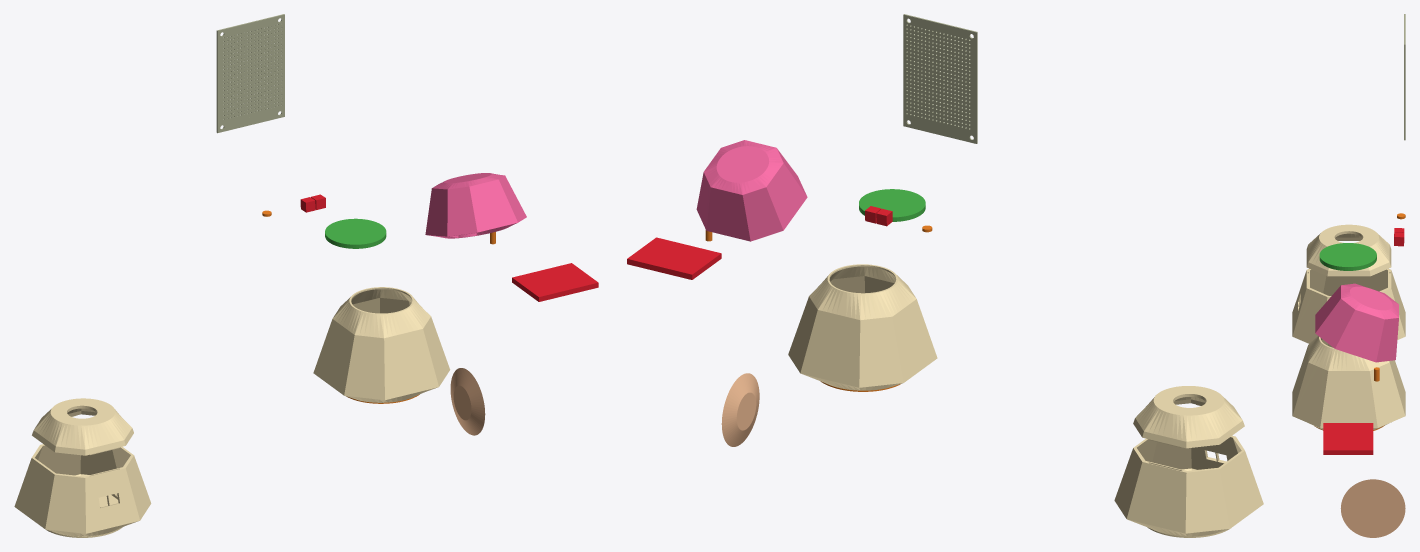
The model's file is tinker.obj.
3 renders of one model, left to right at view 1: azimuth 30°, elevation 25°; view 2: azimuth 150°, elevation 25°; view 3: azimuth 270°, elevation 25°, orthographic. The views are drawn at different scales.
Parts seen in each view (by area): view 1: group_0_16311991, group_0_11909273, group_0_16345508, group_0_15277357, group_0_16500122, group_0_4634441; view 2: group_0_16311991, group_0_11909273, group_0_16345508, group_0_15277357, group_0_16500122, group_0_4634441; view 3: group_0_16311991, group_0_16345508, group_0_16500122, group_0_15277357, group_0_4634441, group_0_11909273, group_0_16089887.
Part boxes in pixels (x1,y1,x2,y2): group_0_16311991: (14,287,450,537); group_0_11909273: (216,14,284,133); group_0_16345508: (425,173,526,238); group_0_15277357: (300,194,598,301); group_0_16500122: (450,368,485,435); group_0_4634441: (325,218,386,248); group_0_16311991: (788,264,1263,537); group_0_11909273: (903,14,977,143); group_0_16345508: (696,140,807,241); group_0_15277357: (627,206,892,279); group_0_16500122: (721,373,759,446); group_0_4634441: (859,189,925,221); group_0_16311991: (1292,224,1405,429); group_0_16345508: (1315,283,1398,362); group_0_16500122: (1340,479,1405,537); group_0_15277357: (1323,228,1404,454); group_0_4634441: (1319,243,1376,270); group_0_11909273: (1404,14,1405,140); group_0_16089887: (1314,213,1405,430).
Bounding box in the file's own units: 418 × 322 × 79.
